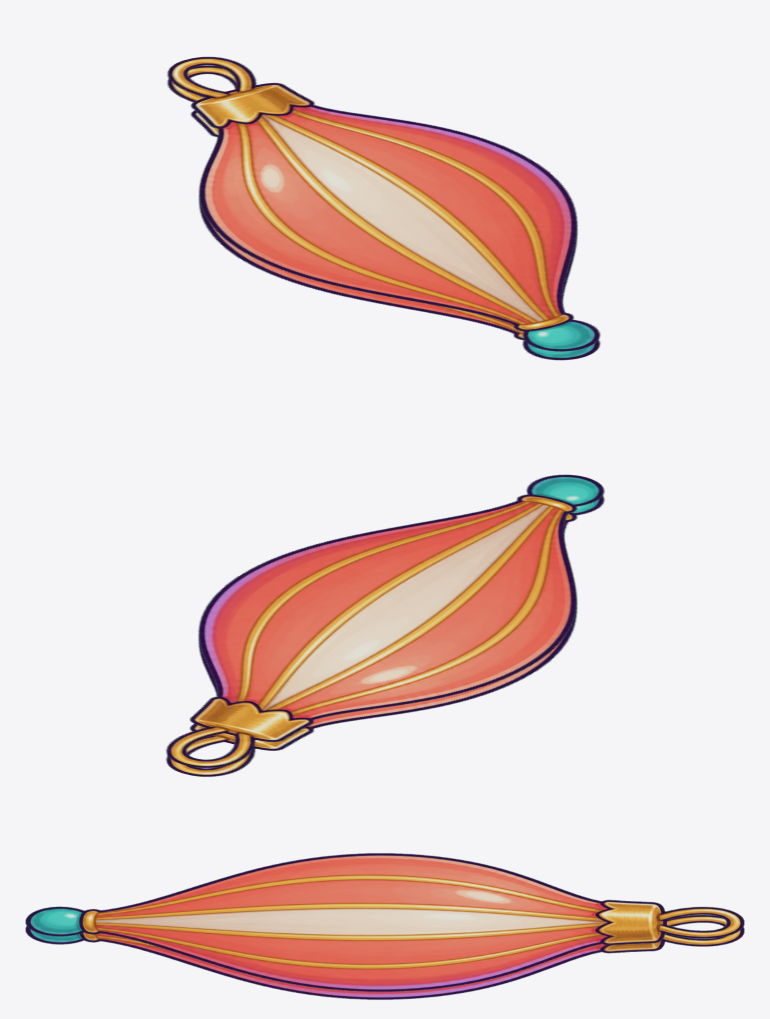
File: orn2.glb
The picture shows the model from 3 angles, top to bottom: view 1: azimuth 30°, elevation 25°; view 2: azimuth 150°, elevation 25°; view 3: azimuth 270°, elevation 25°; orthographic projection. The views are drawn at different scales.
Parts seen in each view (by area): view 1: orn2; view 2: orn2; view 3: orn2.
Boxes of the visible parts, x1,y1,x2,y2 form: orn2: (167,56,600,360); orn2: (166,474,604,776); orn2: (25,853,744,999).
Size of the model in its own units: 2 by 0.05 by 4.23.
1 material, 1 textured.
